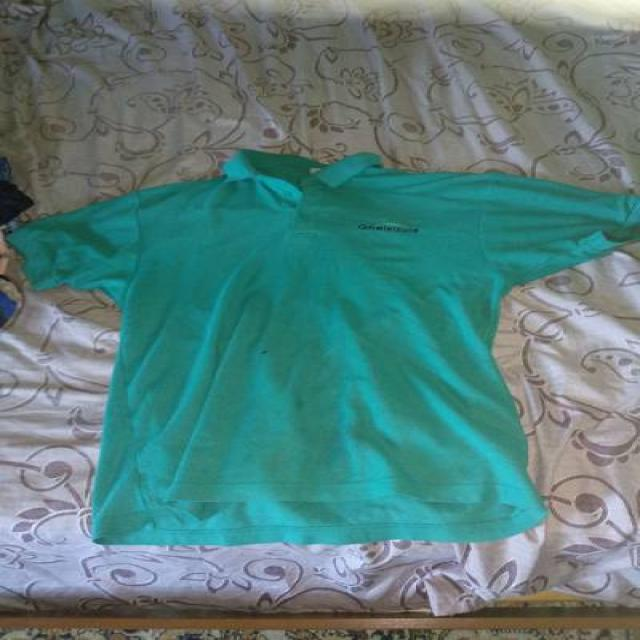Clothes -Biodegradable-: (4, 151, 640, 542)
